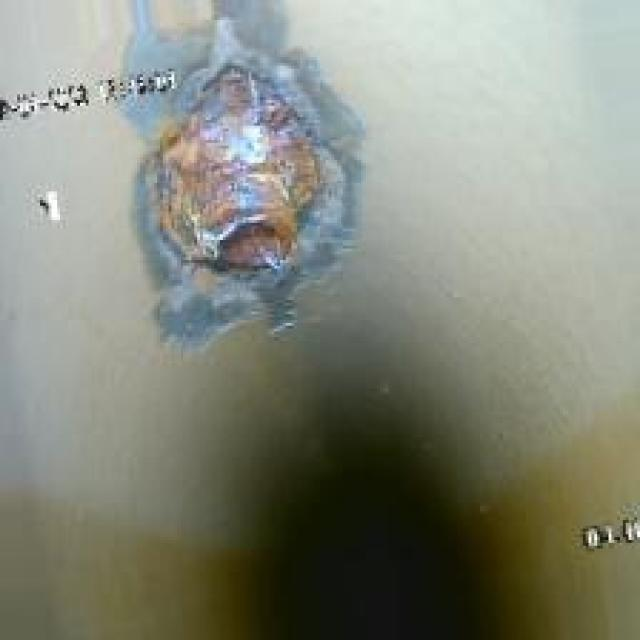ferrule: (148, 97, 326, 277)
